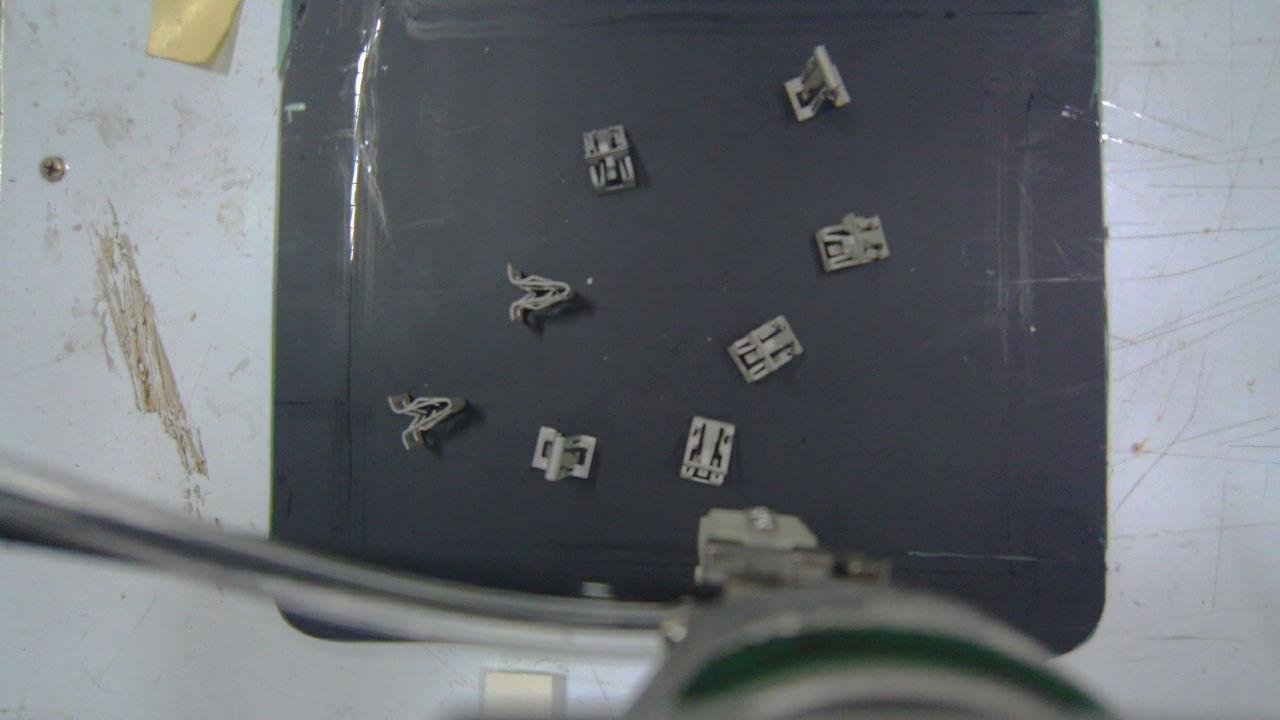ng: (727, 312, 805, 385), (785, 45, 851, 120), (387, 395, 468, 452), (817, 213, 891, 274), (678, 417, 734, 487), (508, 264, 574, 321), (583, 126, 635, 194)
pass: (531, 428, 595, 480)
